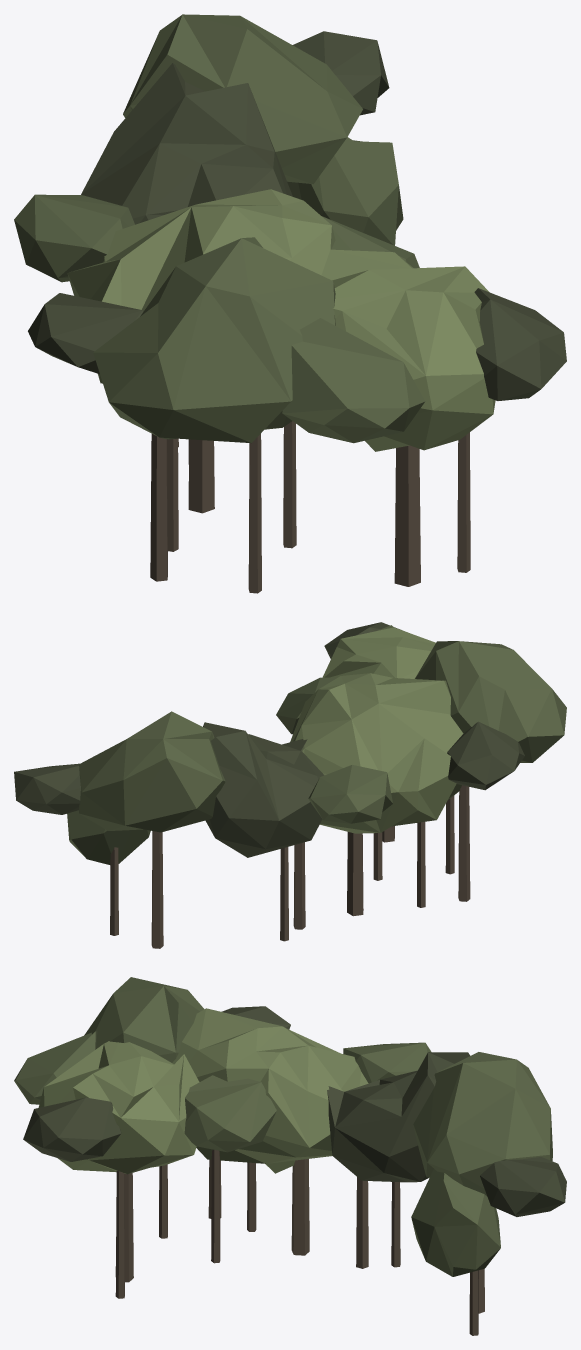
File: tree_59.fbx
The picture shows the model from 3 angles, top to bottom: view 1: azimuth 30°, elevation 25°; view 2: azimuth 150°, elevation 25°; view 3: azimuth 270°, elevation 25°; orthographic projection. The views are drawn at different scales.
Visible parts, largest first — view 1: tree_059; view 2: tree_059; view 3: tree_059.
Boxes of the visible parts, bbox=[...] form: tree_059: bbox=[14, 14, 566, 593]; tree_059: bbox=[14, 622, 566, 948]; tree_059: bbox=[14, 977, 566, 1335].
Size of the model in its own units: 0.6035 by 0.3706 by 0.7536.
Materials: 1 (1 with a texture image).
